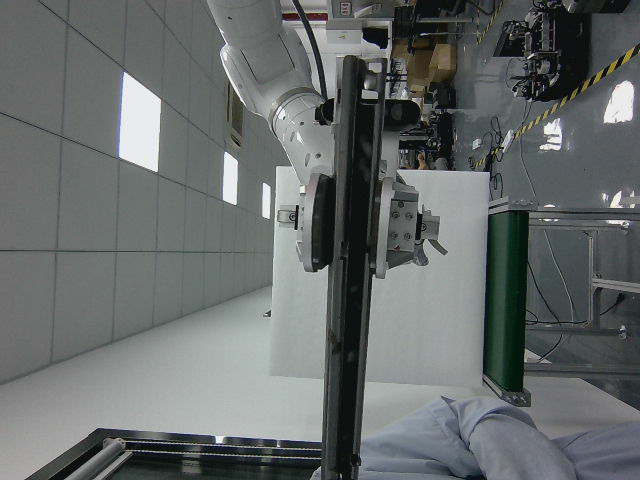left: (311, 55, 387, 442)
